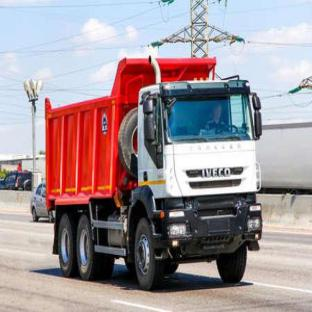Vehicle: (23, 69, 271, 287)
